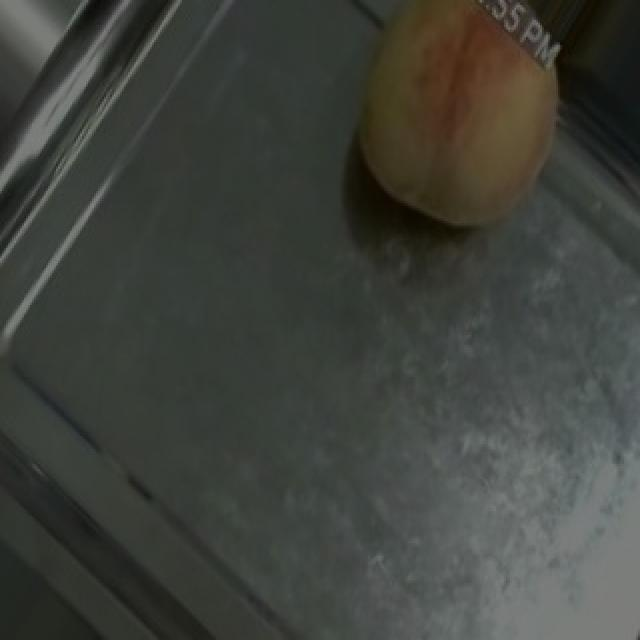Fruit: (304, 0, 578, 260)
